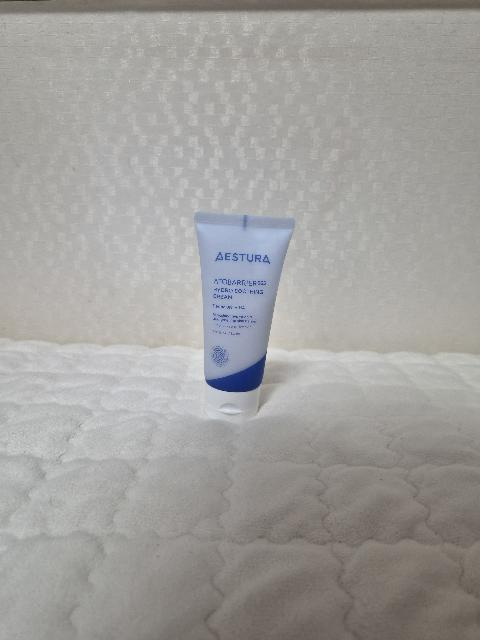handcream: (194, 211, 296, 423)
